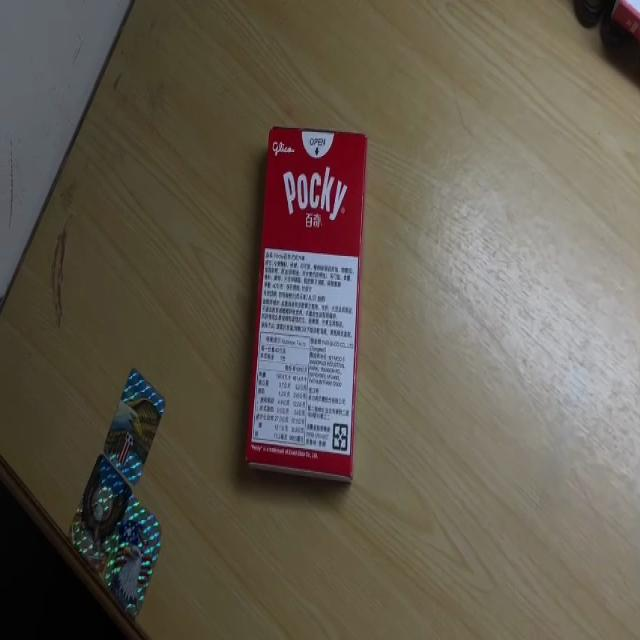Pocky: (246, 124, 368, 478)
